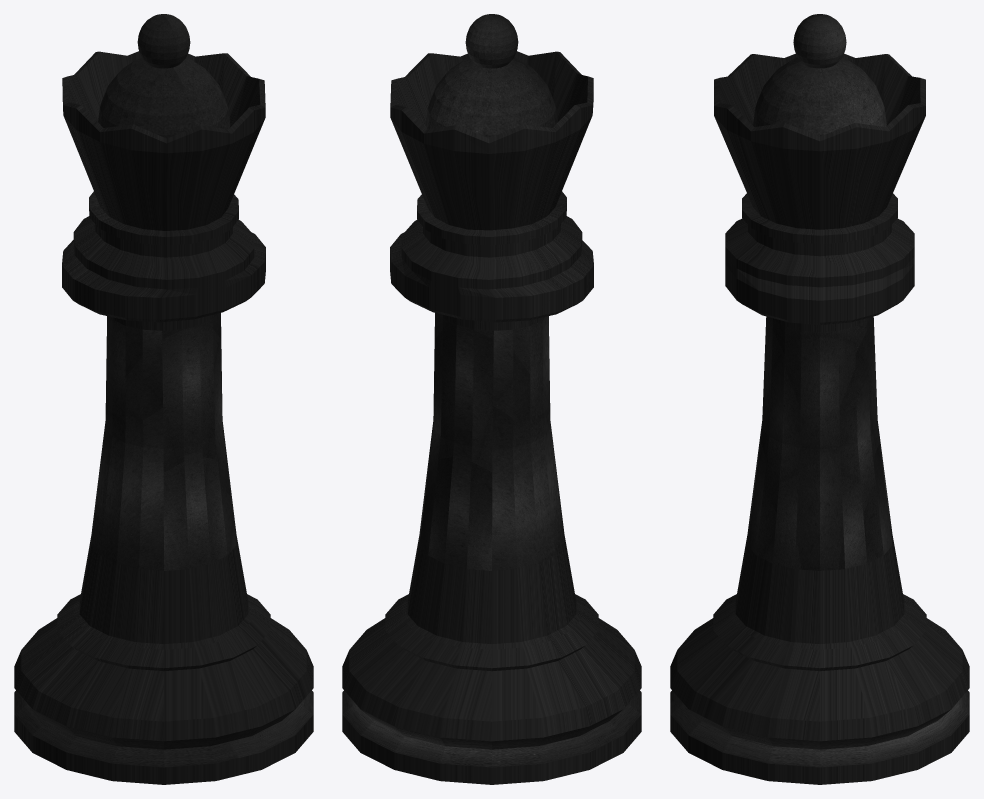
The model's file is b_queen.obj.
3 renders of one model, left to right at view 1: azimuth 30°, elevation 25°; view 2: azimuth 150°, elevation 25°; view 3: azimuth 270°, elevation 25°, orthographic.
Size of the model in its own units: 0.1443 by 0.3758 by 0.1422.
Materials: 1 (1 with a texture image).
